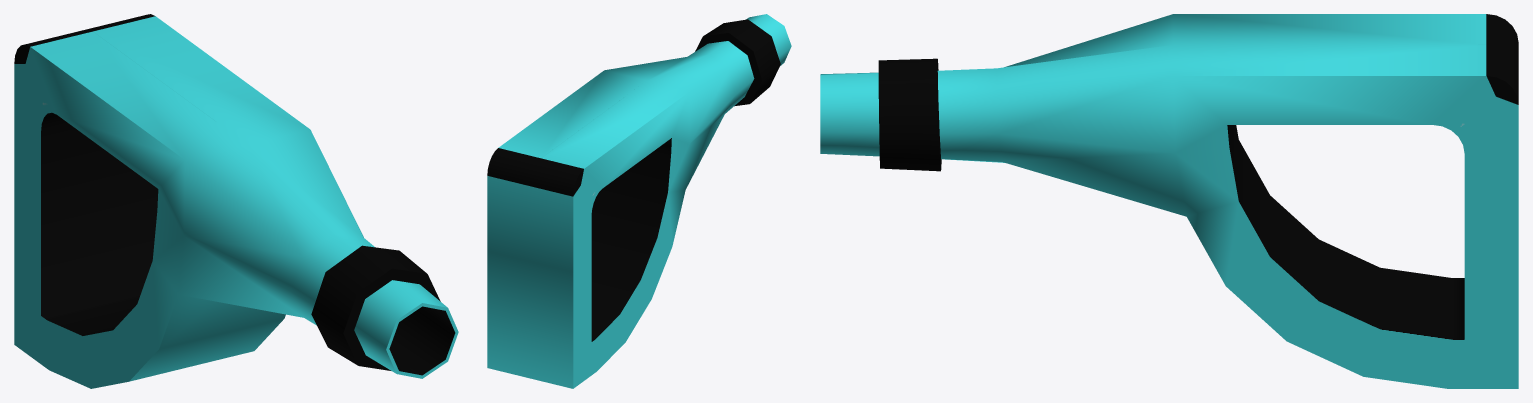
The model's file is FreezeGun.glb.
The picture shows the model from 3 angles, left to right: view 1: azimuth 30°, elevation 25°; view 2: azimuth 150°, elevation 25°; view 3: azimuth 270°, elevation 25°; orthographic projection. The views are drawn at different scales.
Parts seen in each view (by area): view 1: freeze gun; view 2: freeze gun; view 3: freeze gun.
Part boxes in pixels (box(x1,y1,x2,y2)): freeze gun: box(14, 14, 458, 388); freeze gun: box(487, 14, 791, 388); freeze gun: box(820, 14, 1518, 388).
Bounding box in the file's own units: 0.0725 × 0.171 × 0.3458.
1 material, 1 textured.
